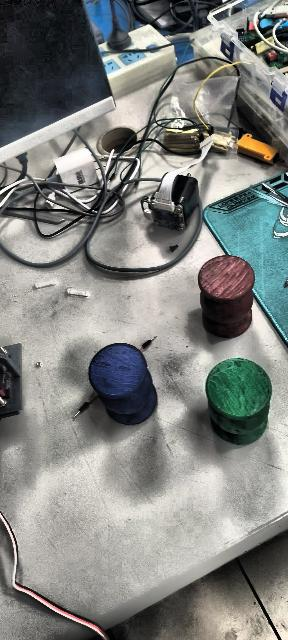blue: (88, 341, 156, 425)
green: (199, 364, 273, 446)
red: (194, 252, 254, 342)
